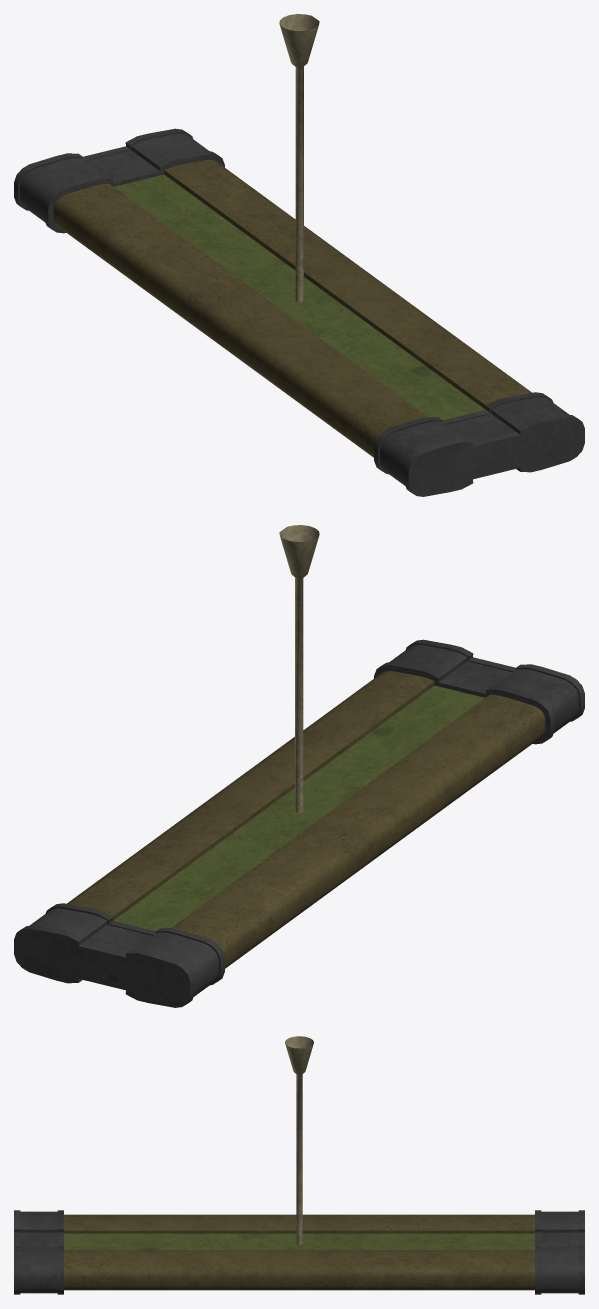
File: Light.fbx
3 renders of one model, top to bottom at view 1: azimuth 30°, elevation 25°; view 2: azimuth 150°, elevation 25°; view 3: azimuth 270°, elevation 25°, orthographic. The views are drawn at different scales.
Parts seen in each view (by area): view 1: Cube.003; view 2: Cube.003; view 3: Cube.003.
Boxes of the visible parts, box(x1,y1,x2,y2) form: Cube.003: box(14, 14, 584, 496); Cube.003: box(14, 525, 584, 1007); Cube.003: box(14, 1036, 584, 1294).
Size of the model in its own units: 0.5591 by 0.9503 by 2.16.
